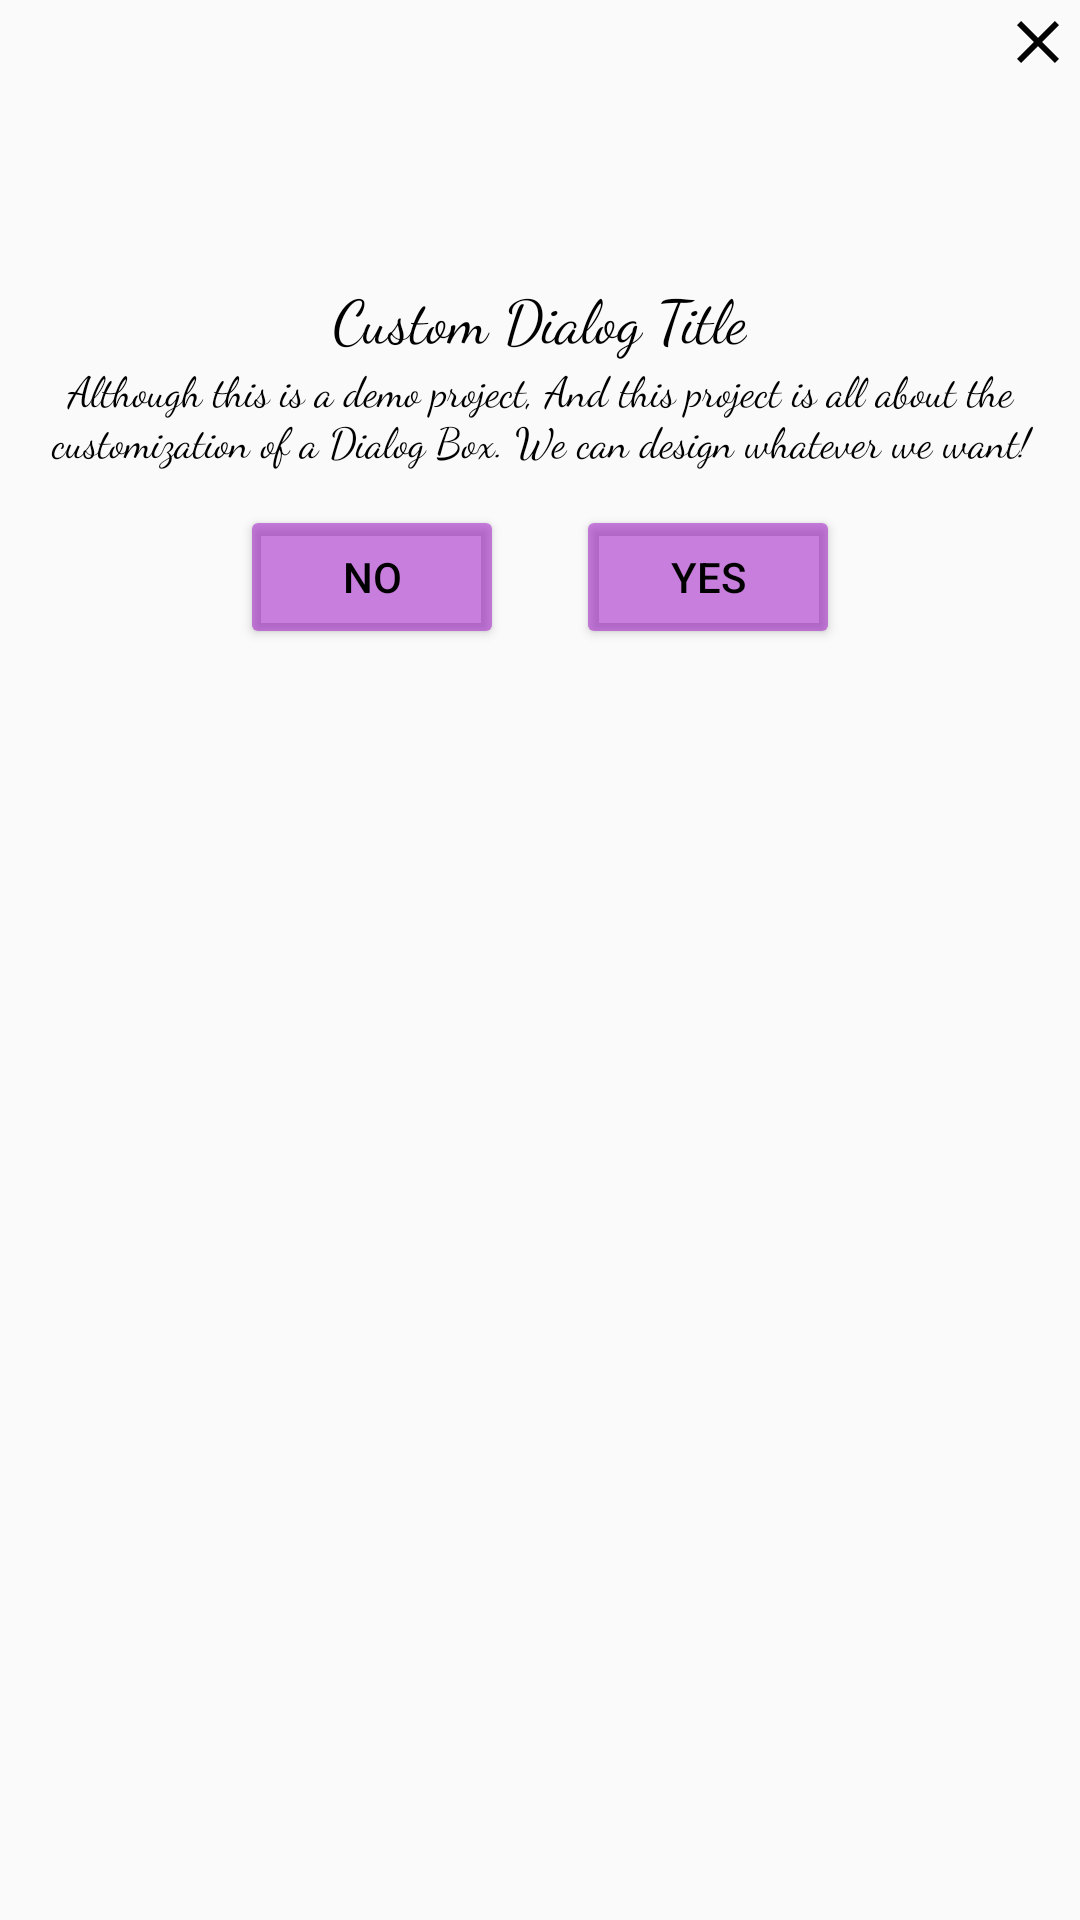

Named icons in this screenshot (1080 × 1920) and their centers, [x,y]:
close: [1038,42]
